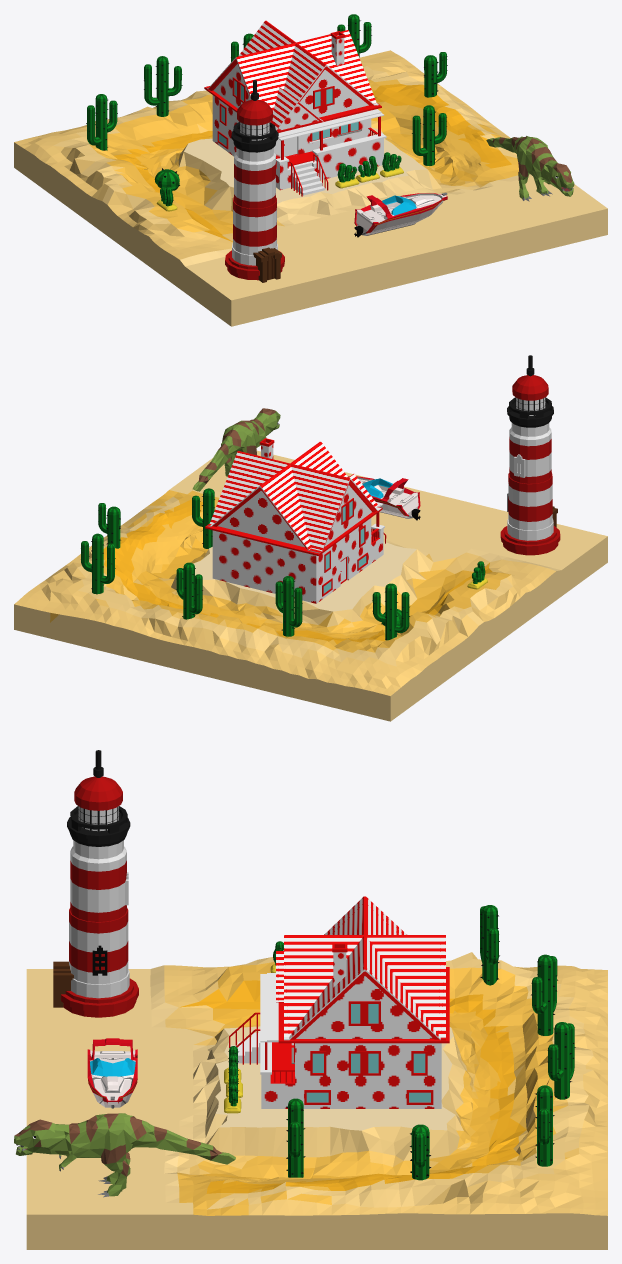
3 renders of one model, top to bottom at view 1: azimuth 30°, elevation 25°; view 2: azimuth 150°, elevation 25°; view 3: azimuth 270°, elevation 25°, orthographic. The views are drawn at different scales.
Parts seen in each view (by area): view 1: Cube.001, Cube.196, OBJRANDOM_LIGHTHOUSE, ANIMAL_TREX, VEHICLES_BOAT, Cylinder.044, Cylinder.037, Cylinder.045, Cylinder.038, Cylinder.042, Cylinder.041, Cylinder.039 (+1 smaller); view 2: Cube.001, Cube.196, OBJRANDOM_LIGHTHOUSE, ANIMAL_TREX, VEHICLES_BOAT, Cylinder.045, Cylinder.042, Cylinder.044, Cylinder.043, Cylinder.037, Cylinder.038; view 3: Cube.001, Cube.196, OBJRANDOM_LIGHTHOUSE, ANIMAL_TREX, VEHICLES_BOAT, Cylinder.044, Cylinder.043, Cylinder.045, Cylinder.042, Cylinder.037, Cylinder.038.
Boxes of the visible parts, x1=… form: Cube.001: x1=14, y1=50, x2=607, y2=326; Cube.196: x1=204, y1=20, x2=386, y2=196; OBJRANDOM_LIGHTHOUSE: x1=225, y1=80, x2=284, y2=282; ANIMAL_TREX: x1=486, y1=136, x2=574, y2=201; VEHICLES_BOAT: x1=354, y1=192, x2=447, y2=237; Cylinder.044: x1=144, y1=56, x2=182, y2=116; Cylinder.037: x1=412, y1=105, x2=446, y2=166; Cylinder.045: x1=86, y1=94, x2=117, y2=150; Cylinder.038: x1=424, y1=52, x2=447, y2=97; Cylinder.042: x1=337, y1=14, x2=371, y2=57; Cylinder.041: x1=380, y1=152, x2=403, y2=177; Cylinder.039: x1=335, y1=163, x2=359, y2=188; Cube.001: x1=14, y1=450, x2=607, y2=721; Cube.196: x1=205, y1=438, x2=386, y2=603; OBJRANDOM_LIGHTHOUSE: x1=500, y1=355, x2=560, y2=555; ANIMAL_TREX: x1=192, y1=408, x2=280, y2=491; VEHICLES_BOAT: x1=348, y1=476, x2=420, y2=520; Cylinder.045: x1=372, y1=583, x2=409, y2=640; Cylinder.042: x1=81, y1=533, x2=115, y2=594; Cylinder.044: x1=275, y1=576, x2=302, y2=636; Cylinder.043: x1=176, y1=562, x2=202, y2=619; Cylinder.037: x1=192, y1=488, x2=214, y2=548; Cylinder.038: x1=98, y1=503, x2=120, y2=548; Cube.001: x1=26, y1=952, x2=607, y2=1249; Cube.196: x1=229, y1=896, x2=449, y2=1108; OBJRANDOM_LIGHTHOUSE: x1=53, y1=750, x2=138, y2=1017; ANIMAL_TREX: x1=14, y1=1113, x2=235, y2=1197; VEHICLES_BOAT: x1=87, y1=1038, x2=137, y2=1108; Cylinder.044: x1=531, y1=954, x2=557, y2=1035; Cylinder.043: x1=547, y1=1022, x2=575, y2=1099; Cylinder.045: x1=480, y1=905, x2=499, y2=985; Cylinder.042: x1=535, y1=1085, x2=554, y2=1166; Cylinder.037: x1=286, y1=1098, x2=305, y2=1177; Cylinder.038: x1=410, y1=1124, x2=431, y2=1180.
Bounding box in the file's own units: 4002 × 2351 × 4088.
Materials: 31 (3 with a texture image).
